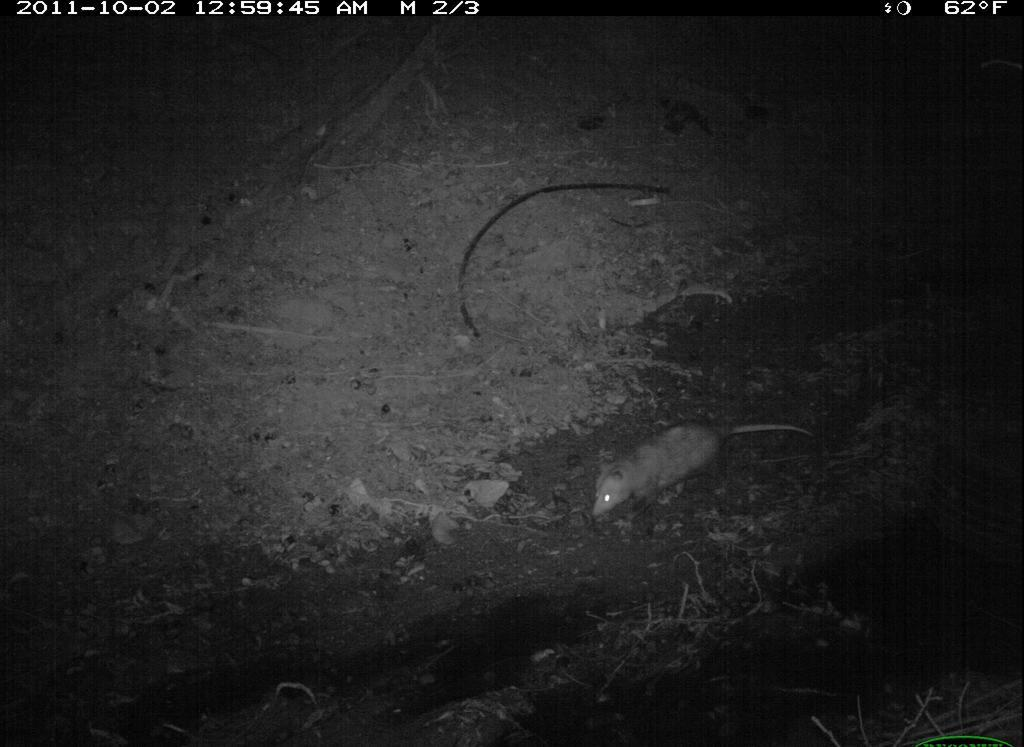opossum: (566, 397, 826, 541)
